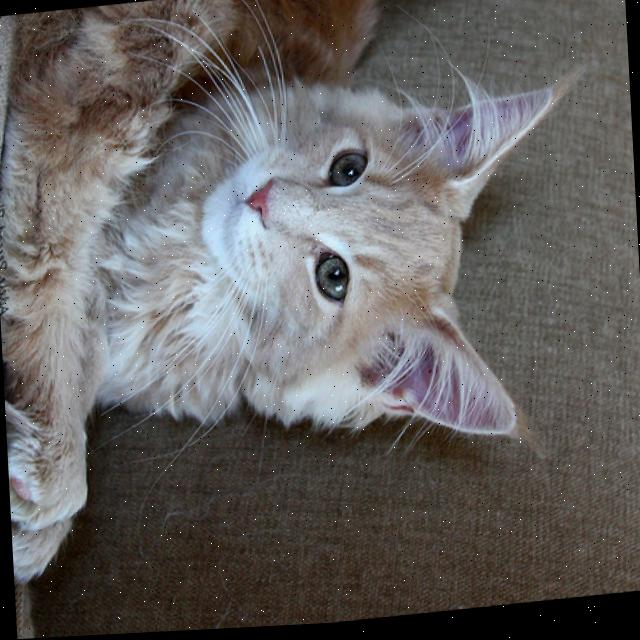Maine Coon: (0, 0, 585, 591)
